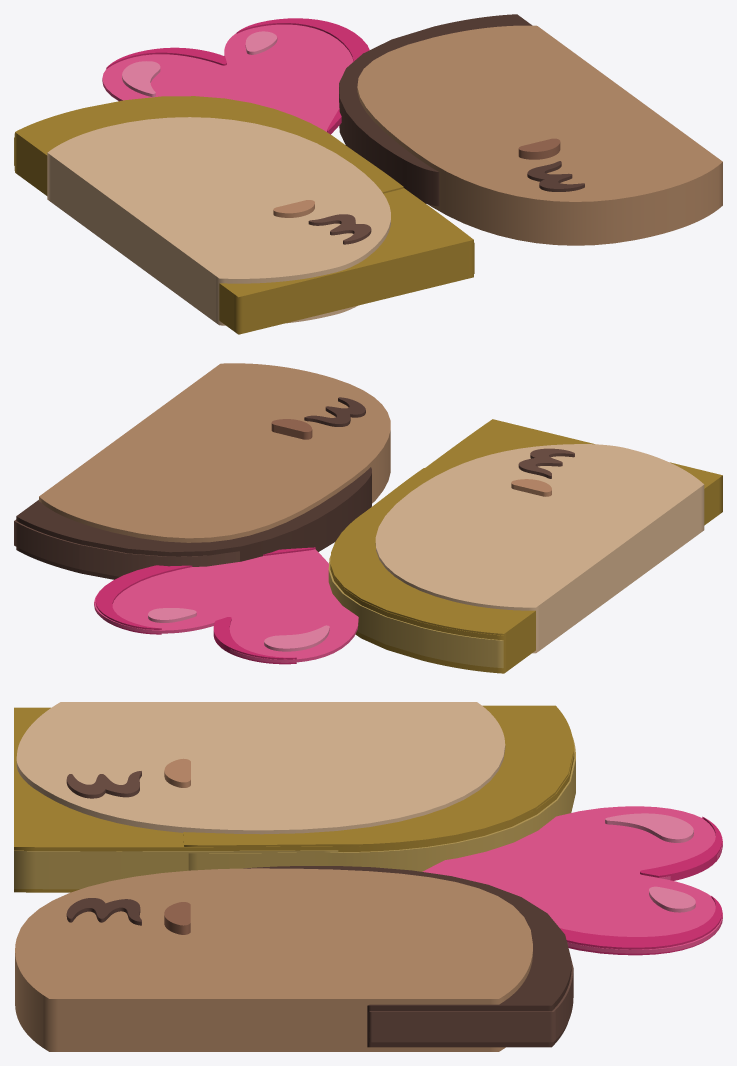
File: emoji_u1f469_1f3fc_200d_2764_200d_1f48b_200d_1f468_1f3fd.glb
The picture shows the model from 3 angles, top to bottom: view 1: azimuth 30°, elevation 25°; view 2: azimuth 150°, elevation 25°; view 3: azimuth 270°, elevation 25°; orthographic projection. The views are drawn at different scales.
Parts seen in each view (by area): view 1: emoji_u1f469_1f3fc_200d_2764_200d_1f48b_200d_1f468_1f3fd; view 2: emoji_u1f469_1f3fc_200d_2764_200d_1f48b_200d_1f468_1f3fd; view 3: emoji_u1f469_1f3fc_200d_2764_200d_1f48b_200d_1f468_1f3fd.
Part boxes in pixels (box(x1,y1,x2,y2)): emoji_u1f469_1f3fc_200d_2764_200d_1f48b_200d_1f468_1f3fd: box(14, 14, 722, 334); emoji_u1f469_1f3fc_200d_2764_200d_1f48b_200d_1f468_1f3fd: box(14, 363, 722, 673); emoji_u1f469_1f3fc_200d_2764_200d_1f48b_200d_1f468_1f3fd: box(14, 702, 722, 1051).
Bounding box in the file's own units: 0.0336 × 0.0038 × 0.0339.
